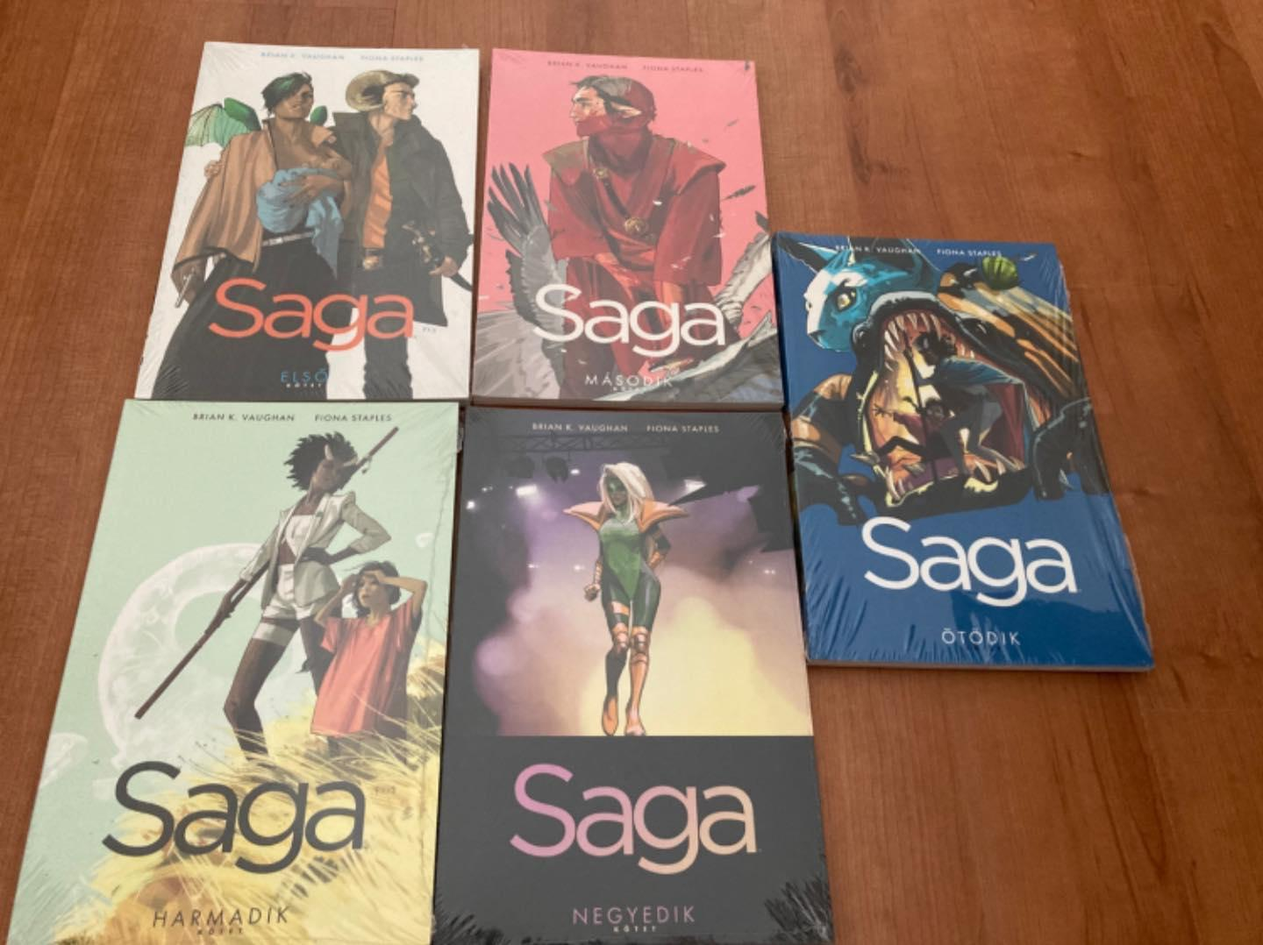comic: (8, 372, 473, 945), (435, 408, 831, 944), (773, 205, 1152, 696), (136, 41, 478, 403), (472, 49, 795, 413)
